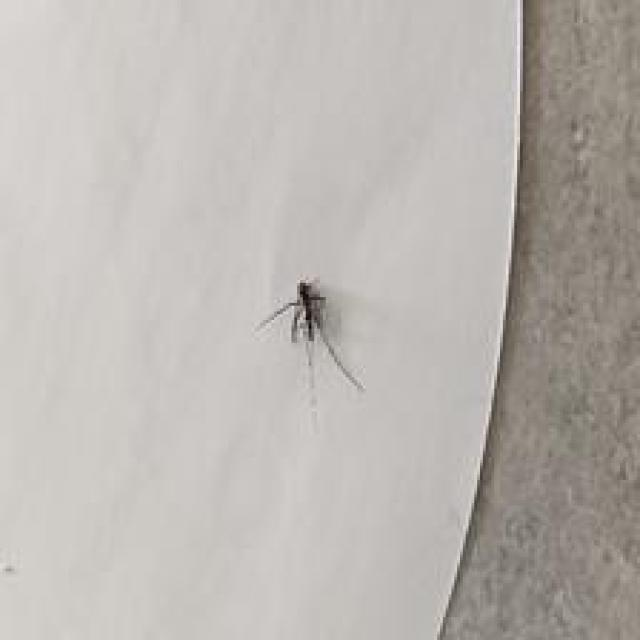Aedes albopictus: (253, 274, 367, 429)
